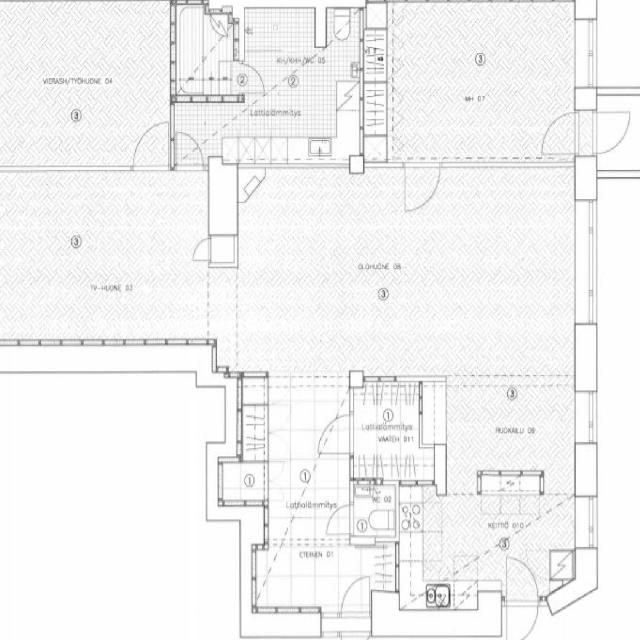door: (578, 112, 626, 154), (545, 112, 593, 154), (134, 122, 168, 171), (405, 165, 440, 212), (507, 559, 538, 607), (318, 414, 354, 453), (507, 597, 538, 640), (341, 577, 369, 618), (176, 132, 204, 171), (239, 64, 268, 93), (326, 505, 354, 534), (190, 238, 211, 260), (341, 630, 369, 640)
